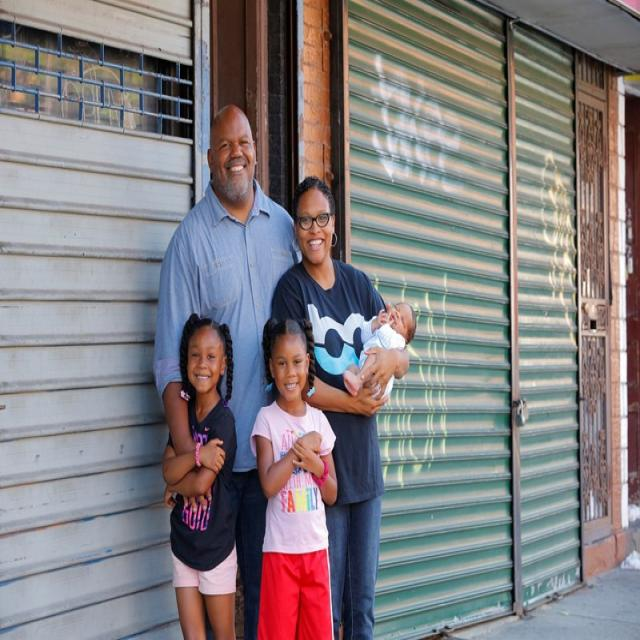body: (151, 98, 306, 640), (270, 169, 415, 639), (156, 304, 246, 639), (249, 314, 340, 640), (342, 302, 418, 402)
